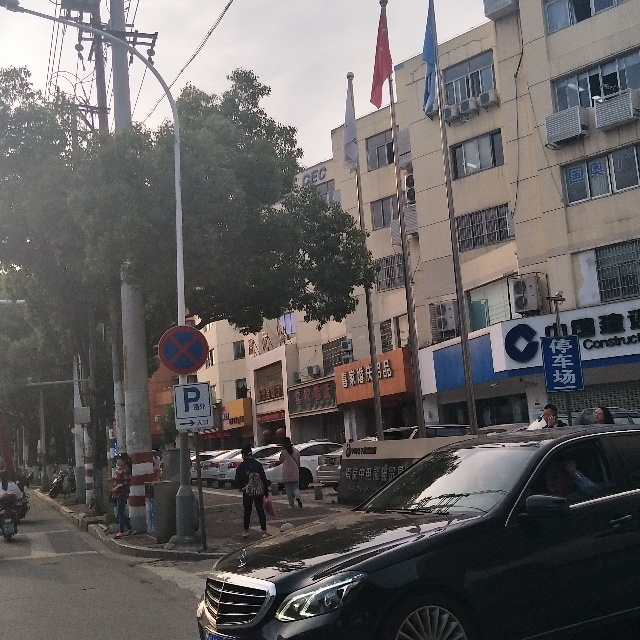stop: (160, 324, 209, 371)
